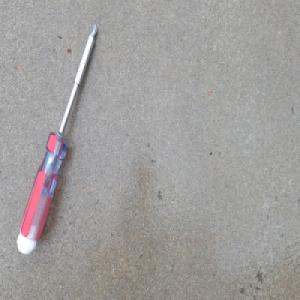Screwdriver: (15, 22, 99, 256)
